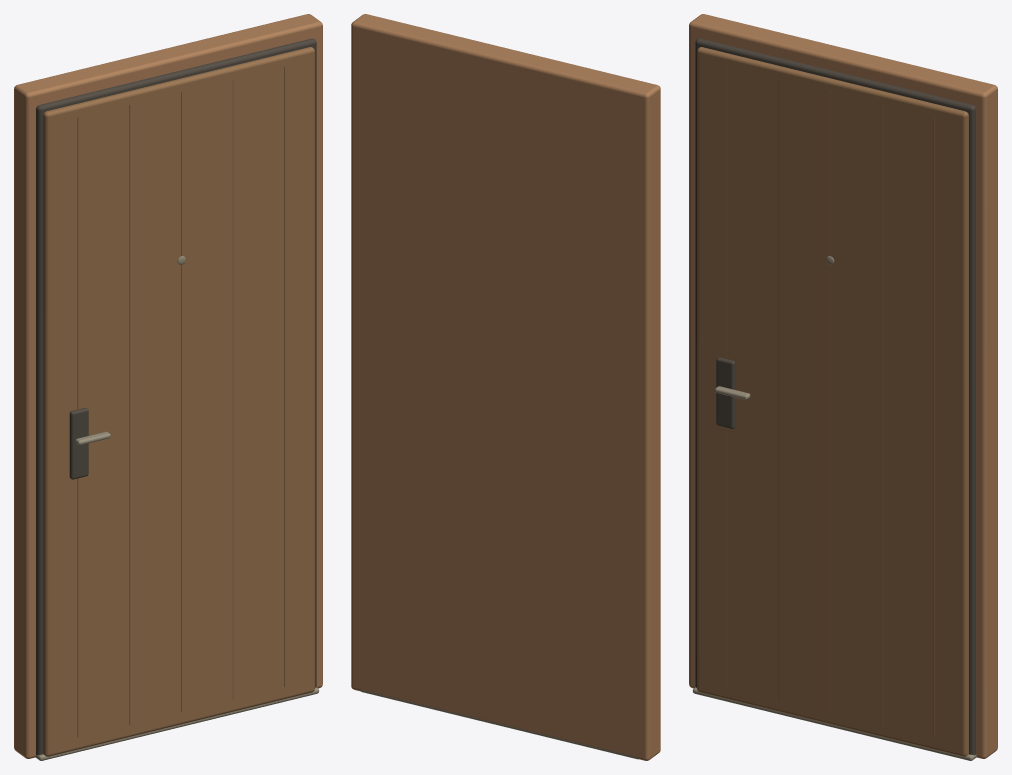
File: family-entry-door-v1.glb
3 renders of one model, left to right at view 1: azimuth 30°, elevation 25°; view 2: azimuth 150°, elevation 25°; view 3: azimuth 330°, elevation 25°, orthographic.
Parts seen in each view (by area): view 1: Door slab, Frame, Recessed reveal, Oak veneer joint (×5), Lock, Threshold; view 2: Frame, Threshold; view 3: Door slab, Frame, Recessed reveal, Oak veneer joint (×5), Lock, Threshold.
Boxes of the visible parts, bbox=[...] form: Door slab: bbox=[43, 47, 314, 756]; Frame: bbox=[14, 14, 322, 758]; Recessed reveal: bbox=[36, 38, 316, 755]; Oak veneer joint (×5): bbox=[77, 67, 284, 737]; Lock: bbox=[69, 408, 88, 479]; Threshold: bbox=[35, 687, 319, 760]; Frame: bbox=[351, 14, 660, 760]; Threshold: bbox=[360, 690, 638, 759]; Door slab: bbox=[697, 47, 968, 756]; Frame: bbox=[689, 14, 997, 758]; Recessed reveal: bbox=[695, 38, 975, 755]; Oak veneer joint (×5): bbox=[727, 67, 934, 737]; Lock: bbox=[716, 357, 735, 428]; Threshold: bbox=[692, 687, 976, 760].
Bounding box in the file's own units: 1.01 × 2.16 × 0.1585.
